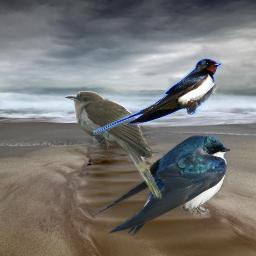Cuckoo: (65, 91, 162, 201)
Swallow: (90, 134, 230, 236), (92, 58, 222, 135)
